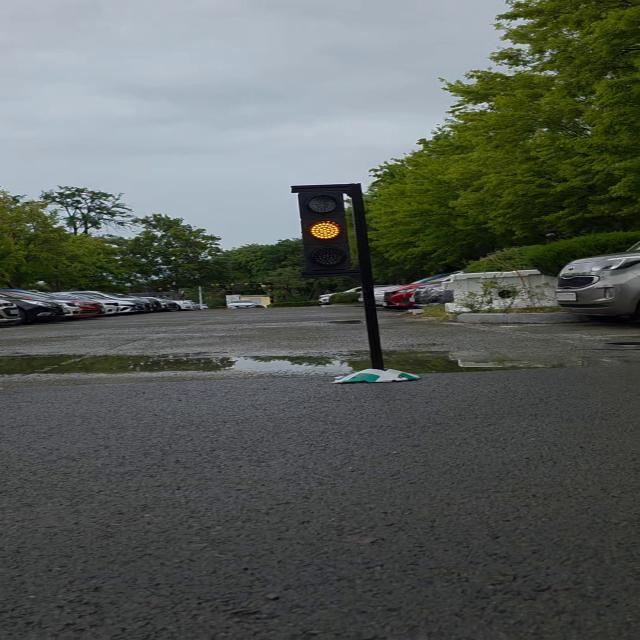yellow: (290, 186, 360, 268)
